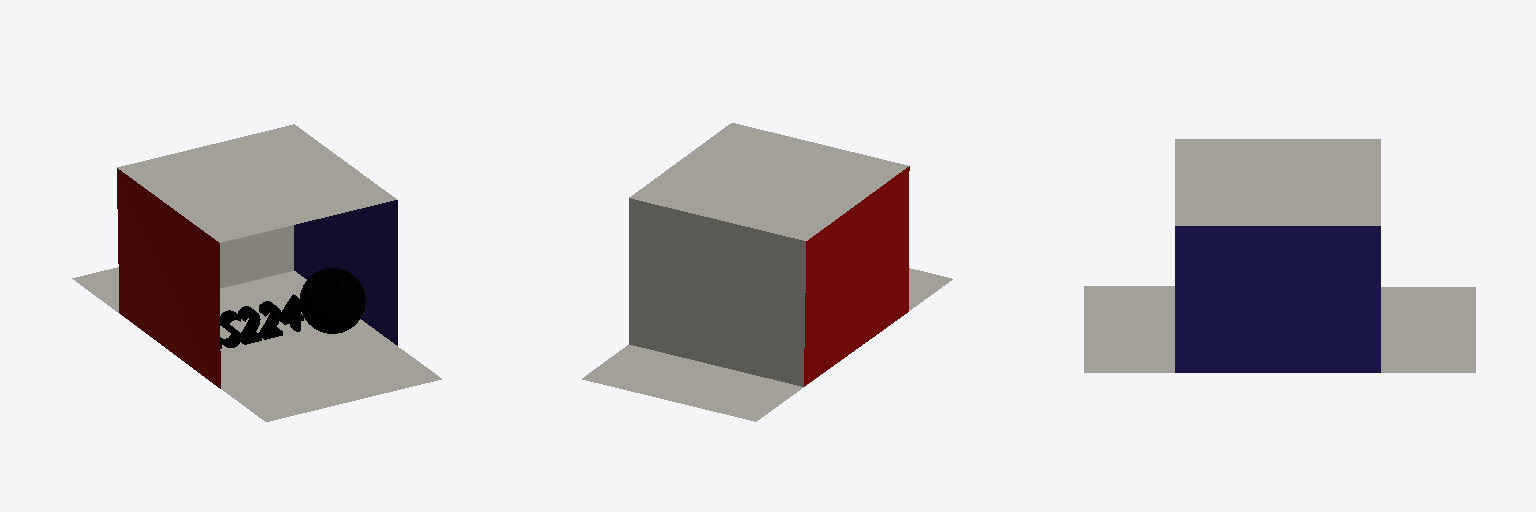
3 renders of one model, left to right at view 1: azimuth 30°, elevation 25°; view 2: azimuth 150°, elevation 25°; view 3: azimuth 270°, elevation 25°, orthographic.
Parts seen in each view (by area): view 1: ceiling, floor, leftWall, rightWall, rightSphere, backWall, Text.002_CUText.011, Text.003_CUText.012, Text.001_CUText.010; view 2: backWall, ceiling, leftWall, floor; view 3: rightWall, ceiling, floor.
Boxes of the visible parts, box(x1,y1,x2,y2) form: ceiling: box(117, 124, 396, 242); floor: box(72, 267, 441, 421); leftWall: box(117, 168, 220, 388); rightWall: box(294, 200, 397, 345); rightSphere: box(300, 268, 365, 333); backWall: box(220, 225, 293, 288); Text.002_CUText.011: box(258, 301, 282, 339); Text.003_CUText.012: box(238, 306, 261, 344); Text.001_CUText.010: box(280, 294, 303, 331); backWall: box(629, 198, 805, 386); ceiling: box(629, 123, 908, 240); leftWall: box(804, 166, 909, 386); floor: box(582, 268, 952, 421); rightWall: box(1175, 226, 1380, 372); ceiling: box(1175, 139, 1380, 225); floor: box(1084, 286, 1475, 372).
Size of the model in its own units: 2.02 by 1.59 by 3.86.